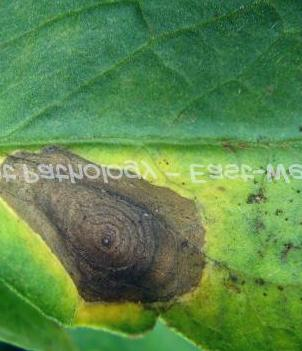Tomato Early blight leaf: (0, 123, 302, 349)
